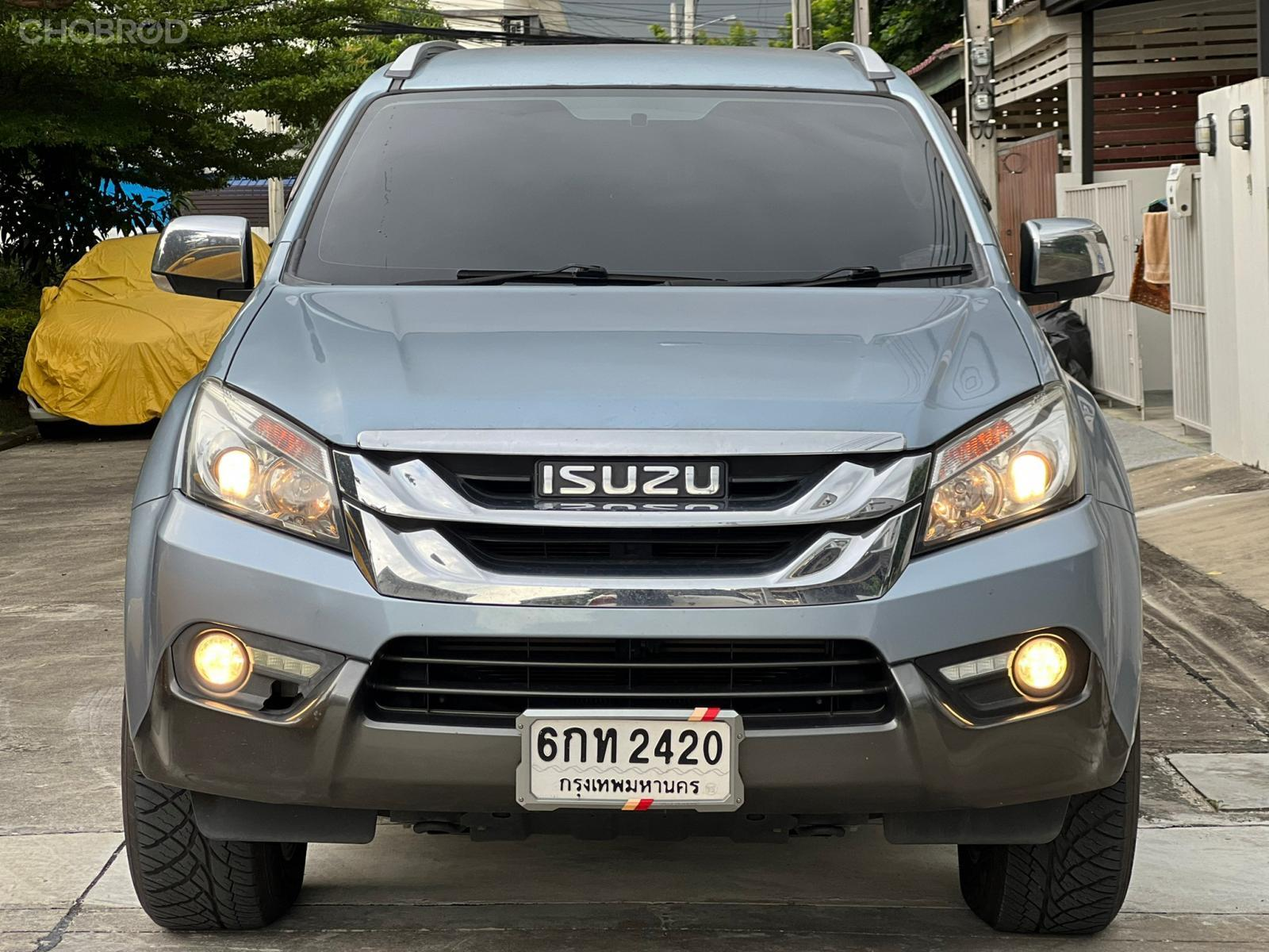license-plate: (511, 702, 749, 817)
